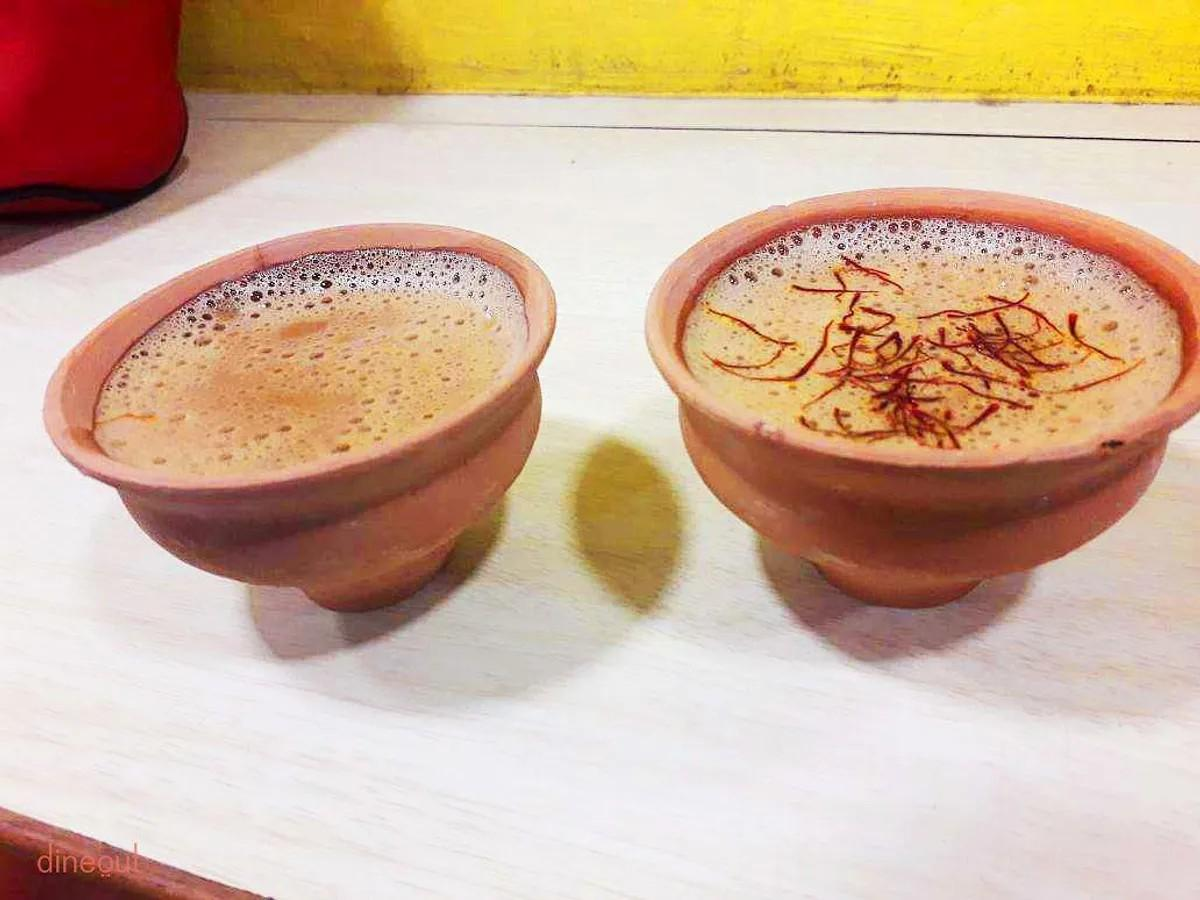Chai: (691, 211, 1183, 461), (88, 246, 522, 486)
